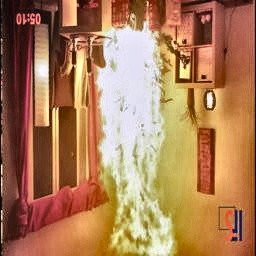fire: (86, 23, 187, 255)
